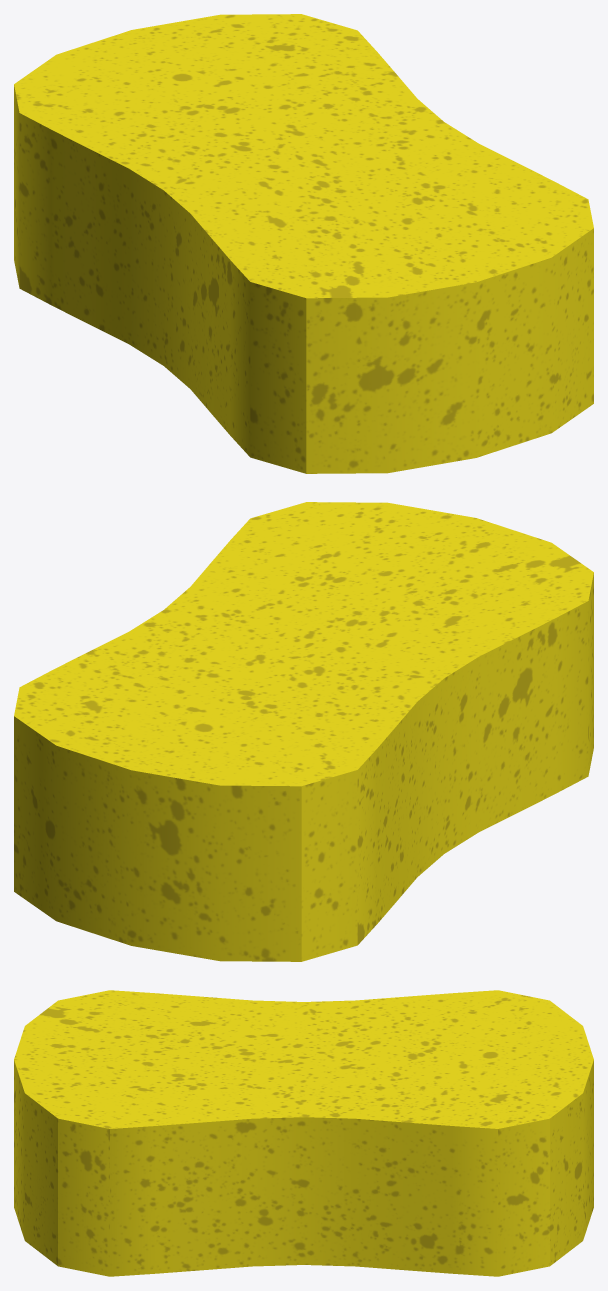
Rendered from Esponja.FBX.
3 renders of one model, top to bottom at view 1: azimuth 30°, elevation 25°; view 2: azimuth 150°, elevation 25°; view 3: azimuth 270°, elevation 25°, orthographic. The views are drawn at different scales.
Parts seen in each view (by area): view 1: Esponja; view 2: Esponja; view 3: Esponja.
Part boxes in pixels (box(x1,y1,x2,y2)): Esponja: box(14, 14, 593, 473); Esponja: box(14, 502, 593, 961); Esponja: box(14, 990, 593, 1276).
Bounding box in the file's own units: 40.05 × 19.88 × 70.71.
1 material, 1 textured.
